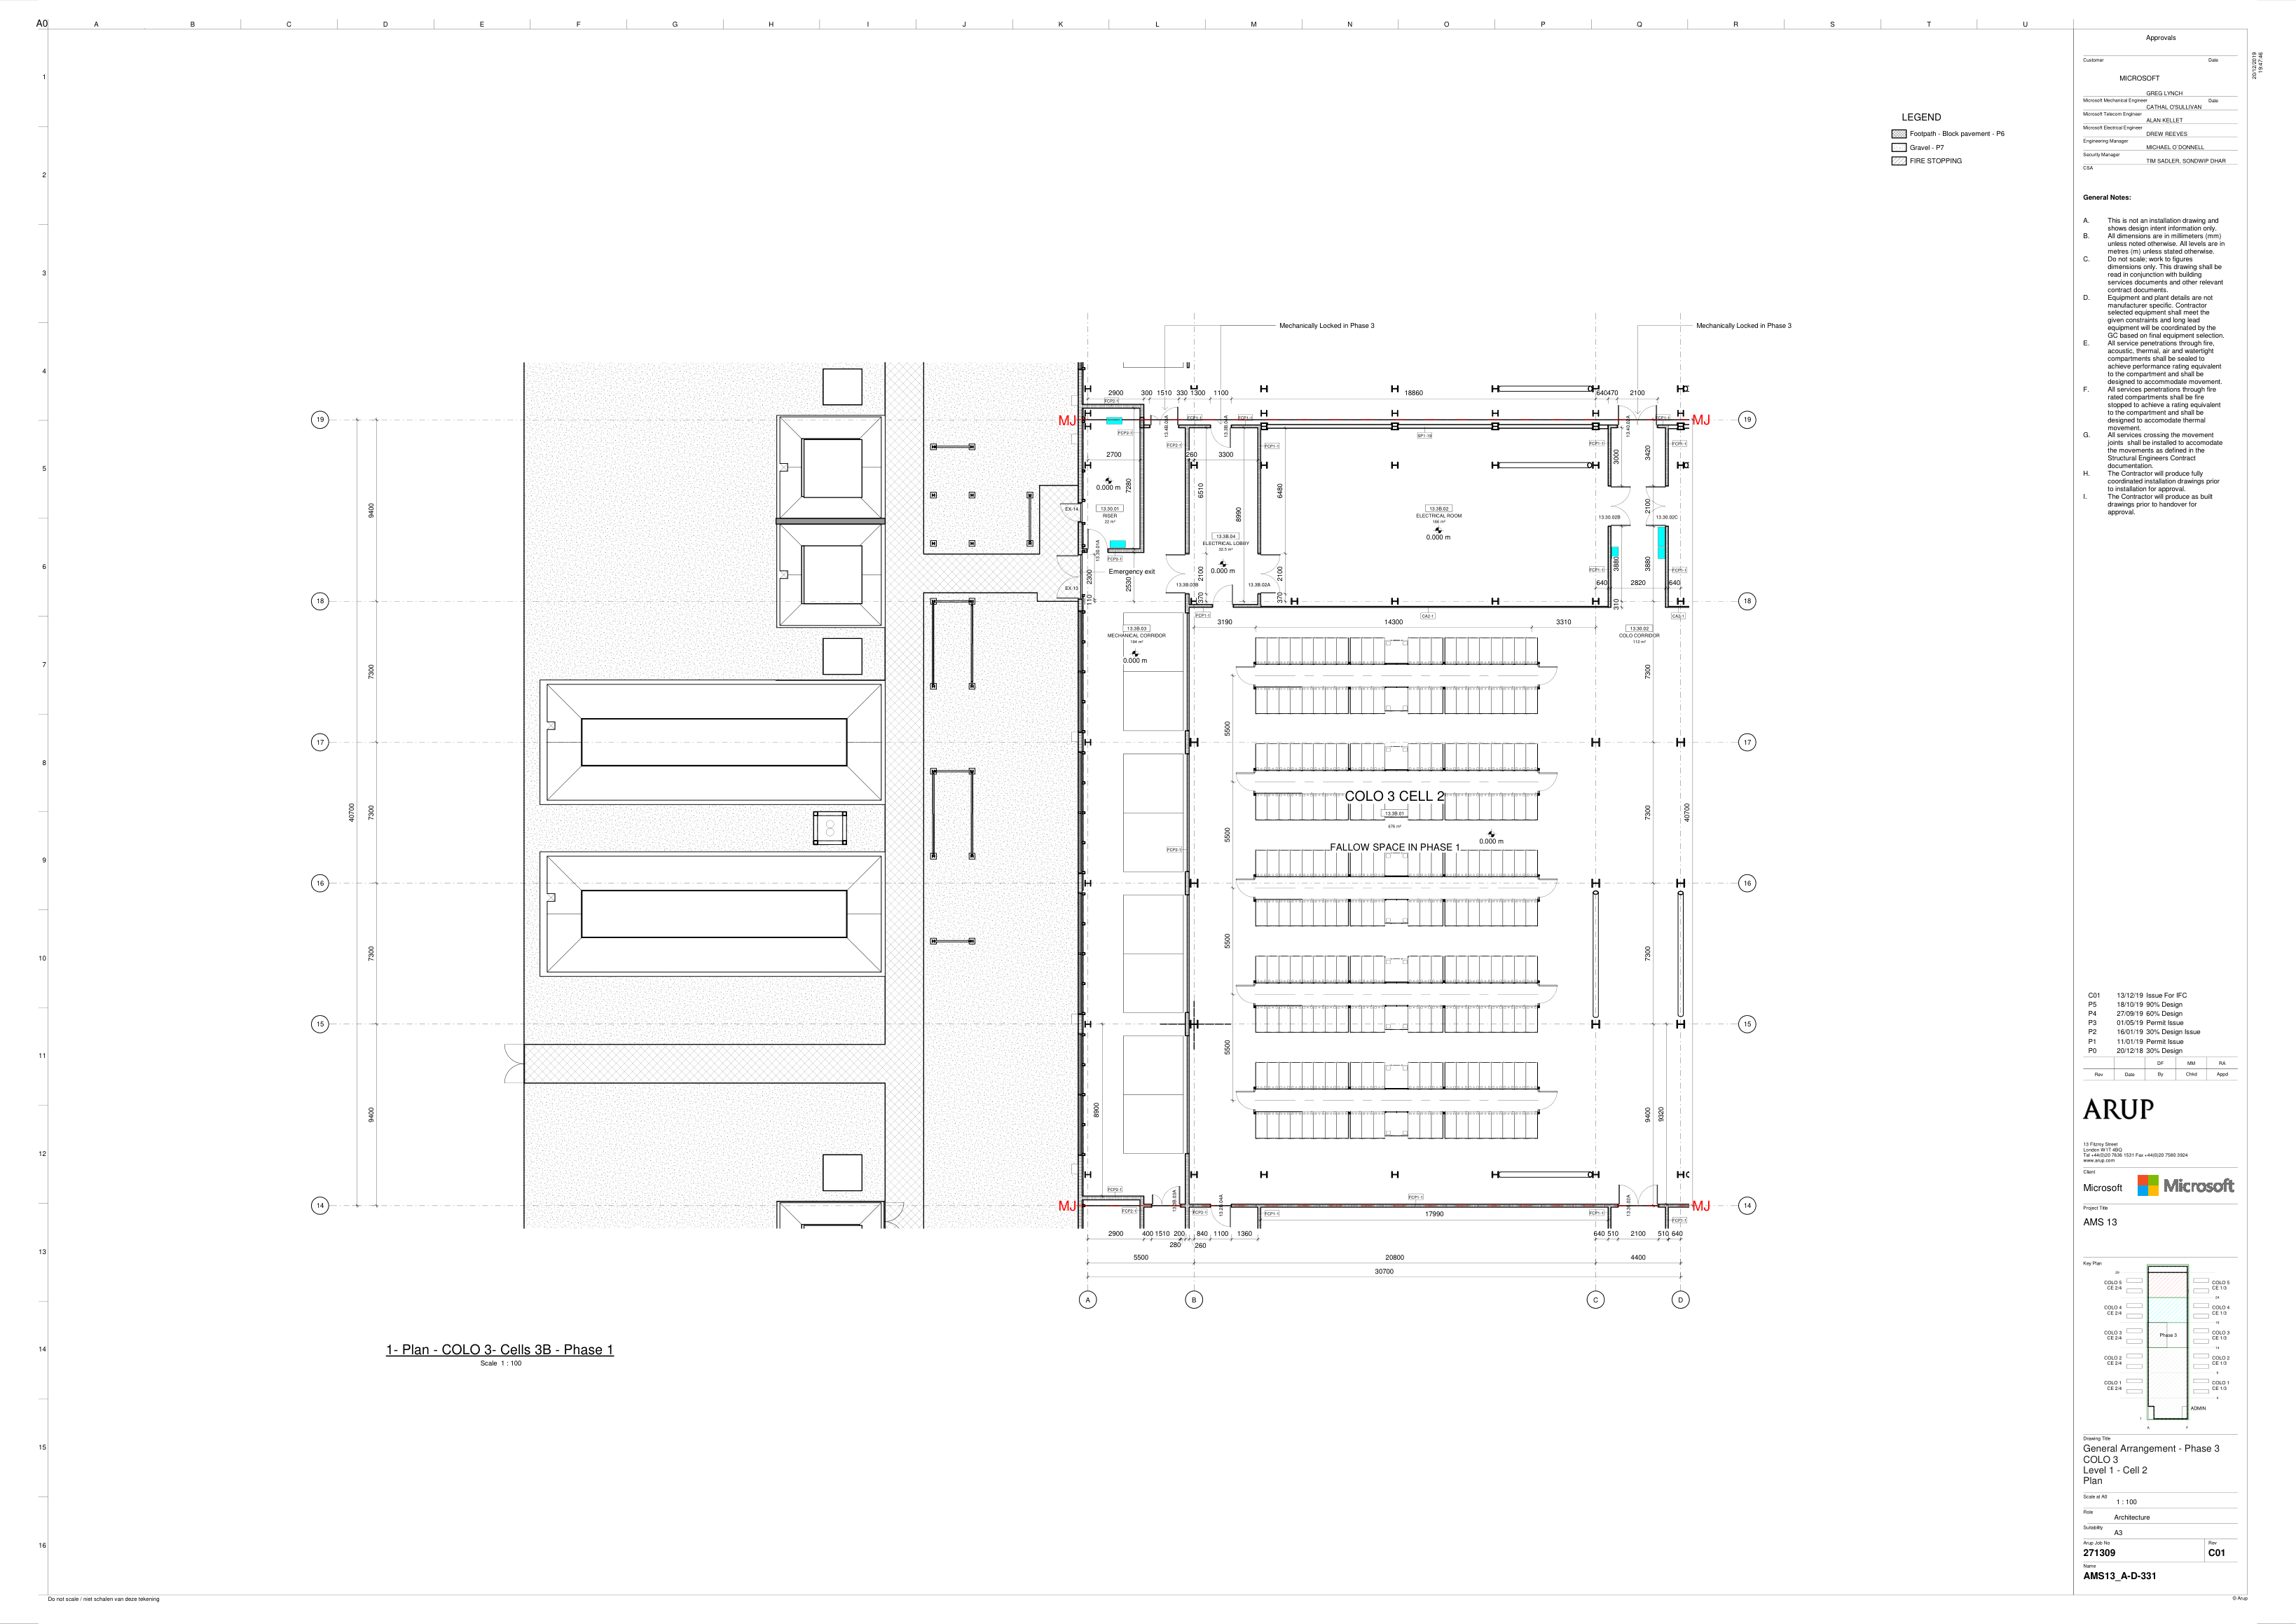Legend: (1890, 109, 2006, 169)
